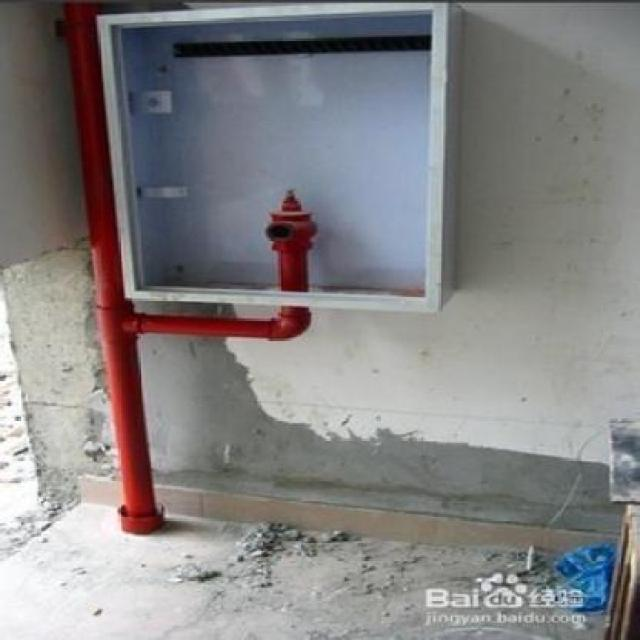firehydrant: (90, 0, 468, 319)
